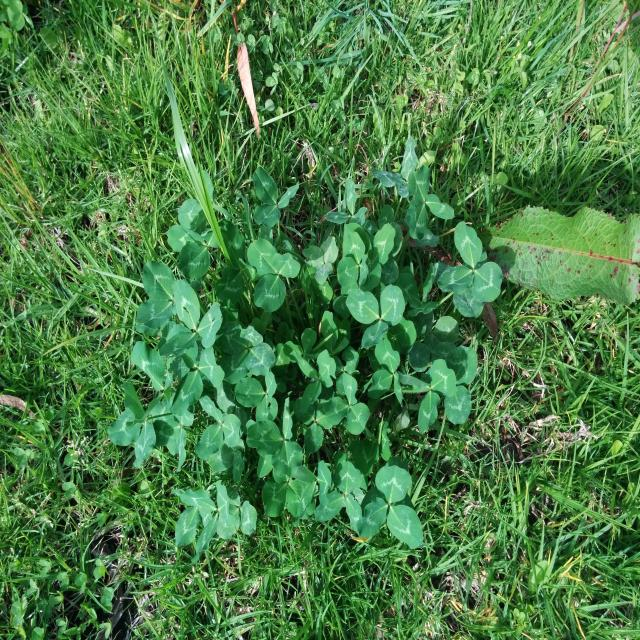Four Leaf Clover: (215, 321, 275, 384)
